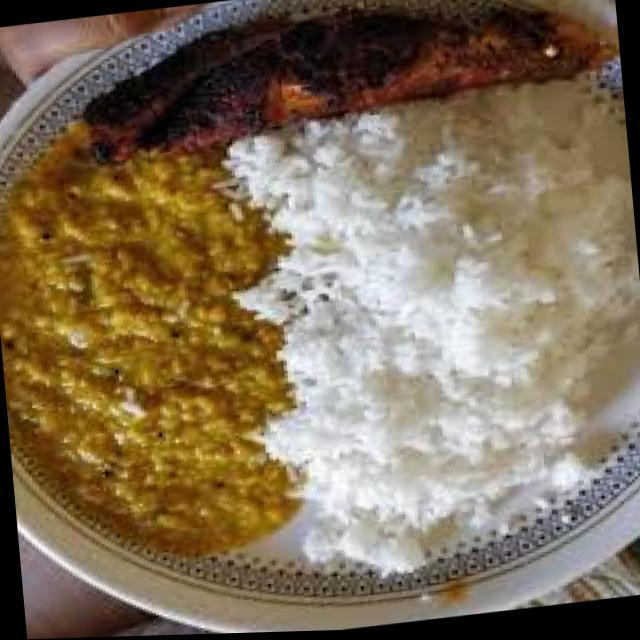DAL: (3, 155, 298, 557)
FISH FRY: (89, 11, 597, 169)
RICE: (232, 86, 623, 572)
